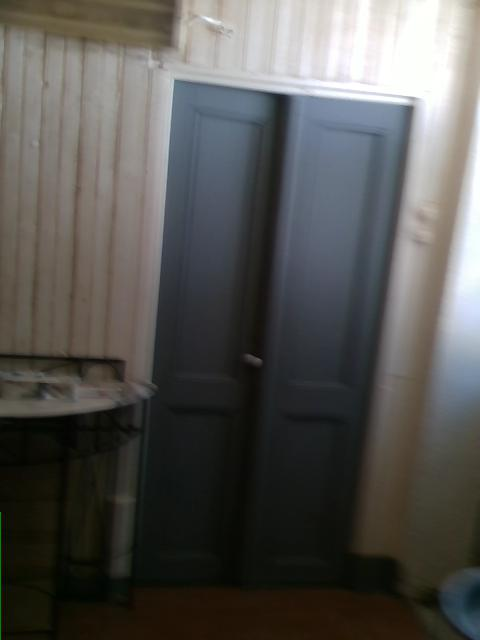closed_door: (131, 78, 411, 590)
